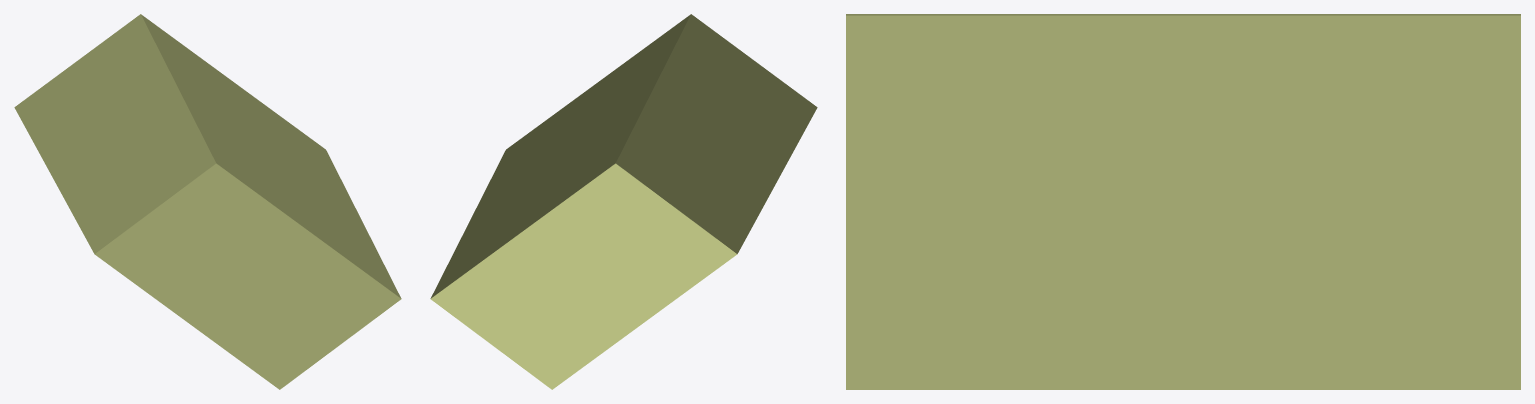
The picture shows the model from 3 angles, left to right: view 1: azimuth 30°, elevation 25°; view 2: azimuth 150°, elevation 25°; view 3: azimuth 270°, elevation 25°; orthographic projection. The views are drawn at different scales.
Visible parts, largest first — view 1: 0_0_1_1_3_2_3_2_0_3_2; view 2: 0_0_1_1_3_2_3_2_0_3_2; view 3: 0_0_1_1_3_2_3_2_0_3_2.
Boxes of the visible parts, x1,y1,x2,y2 form: 0_0_1_1_3_2_3_2_0_3_2: (14, 14, 401, 389); 0_0_1_1_3_2_3_2_0_3_2: (430, 14, 817, 389); 0_0_1_1_3_2_3_2_0_3_2: (846, 14, 1520, 389).
Bounding box in the file's own units: 5.66 × 6.14 × 9.
